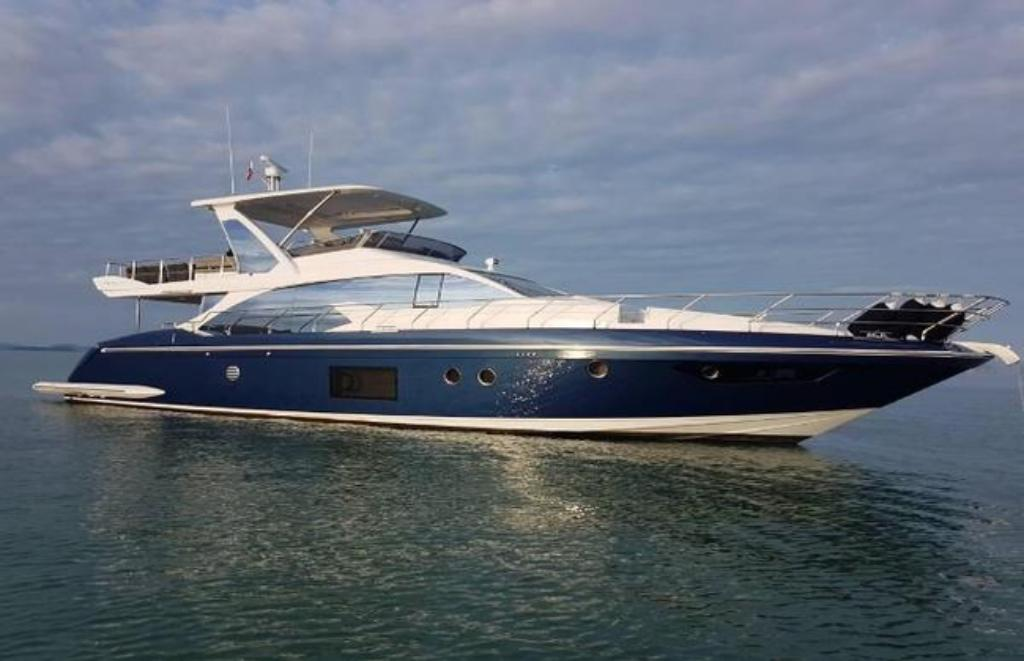PassengerShip: (44, 152, 1012, 444)
